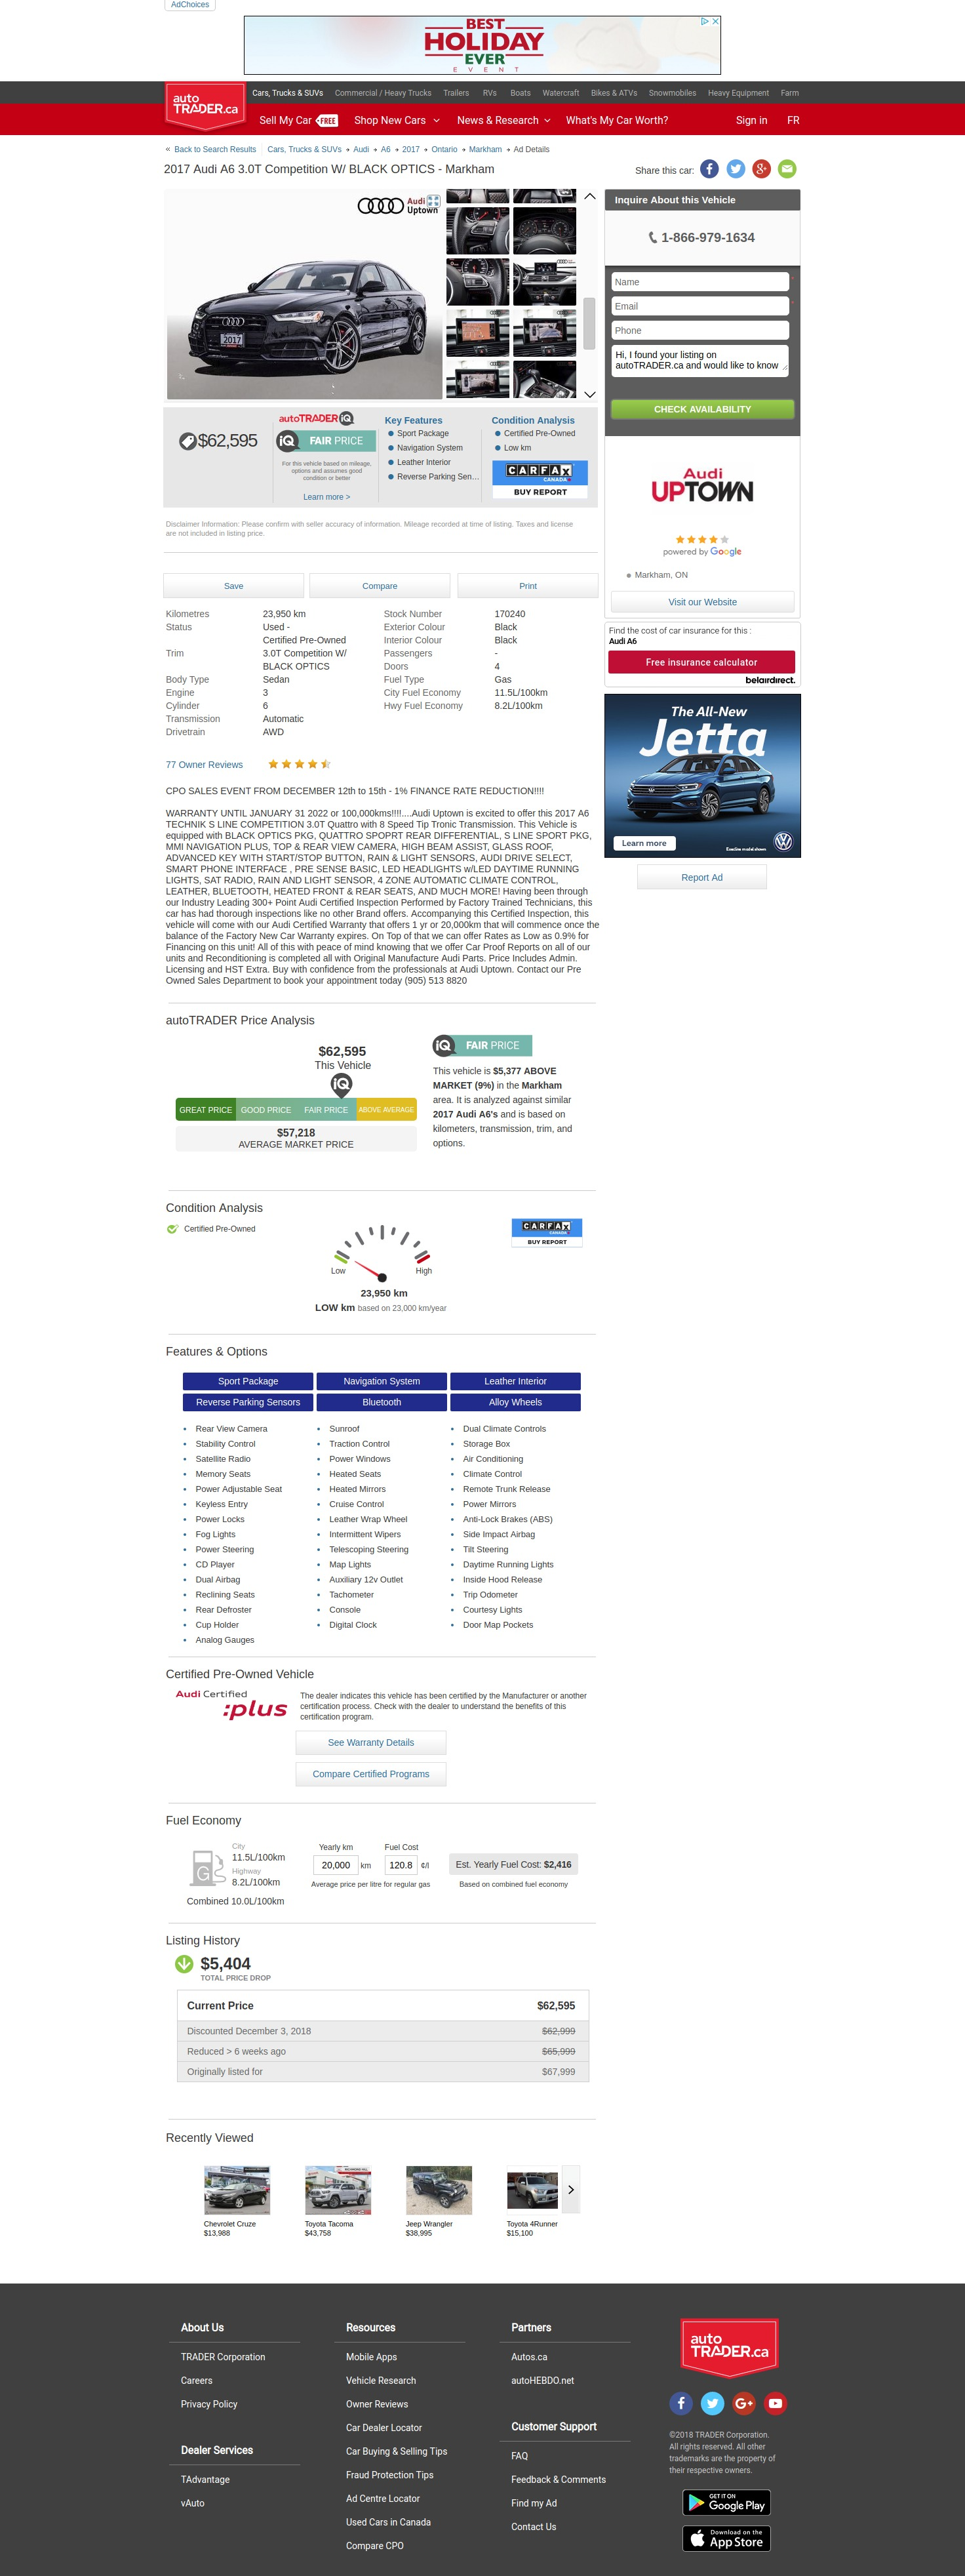car: (584, 391, 597, 399)
